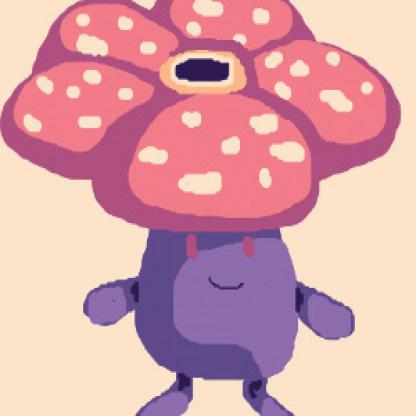Vileplume: (4, 1, 403, 416)
